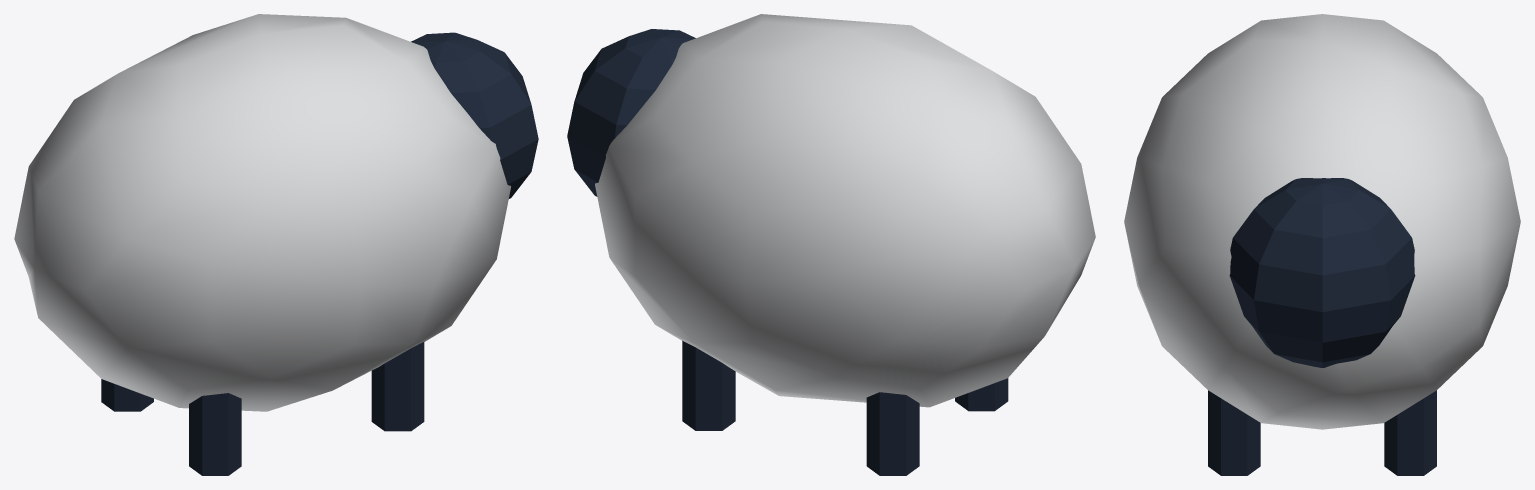
Rendered from sheep.glb.
3 renders of one model, left to right at view 1: azimuth 30°, elevation 25°; view 2: azimuth 150°, elevation 25°; view 3: azimuth 270°, elevation 25°, orthographic.
Parts seen in each view (by area): view 1: SheepWool, SheepDetails; view 2: SheepWool, SheepDetails; view 3: SheepWool, SheepDetails.
Boxes of the visible parts, box(x1,y1,x2,y2) form: SheepWool: box(14, 14, 510, 411); SheepDetails: box(101, 32, 538, 475); SheepWool: box(595, 14, 1095, 407); SheepDetails: box(567, 29, 1008, 475); SheepWool: box(1124, 14, 1520, 429); SheepDetails: box(1208, 178, 1436, 475).
Size of the model in its own units: 0.65 by 0.475 by 0.45.
